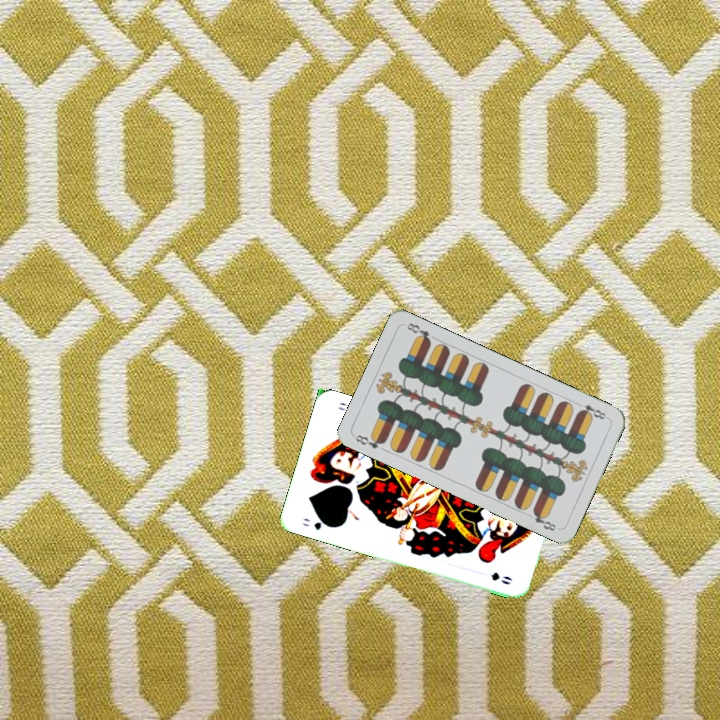E8: (573, 398, 611, 422), (351, 430, 388, 452)
GO: (298, 514, 335, 533)
